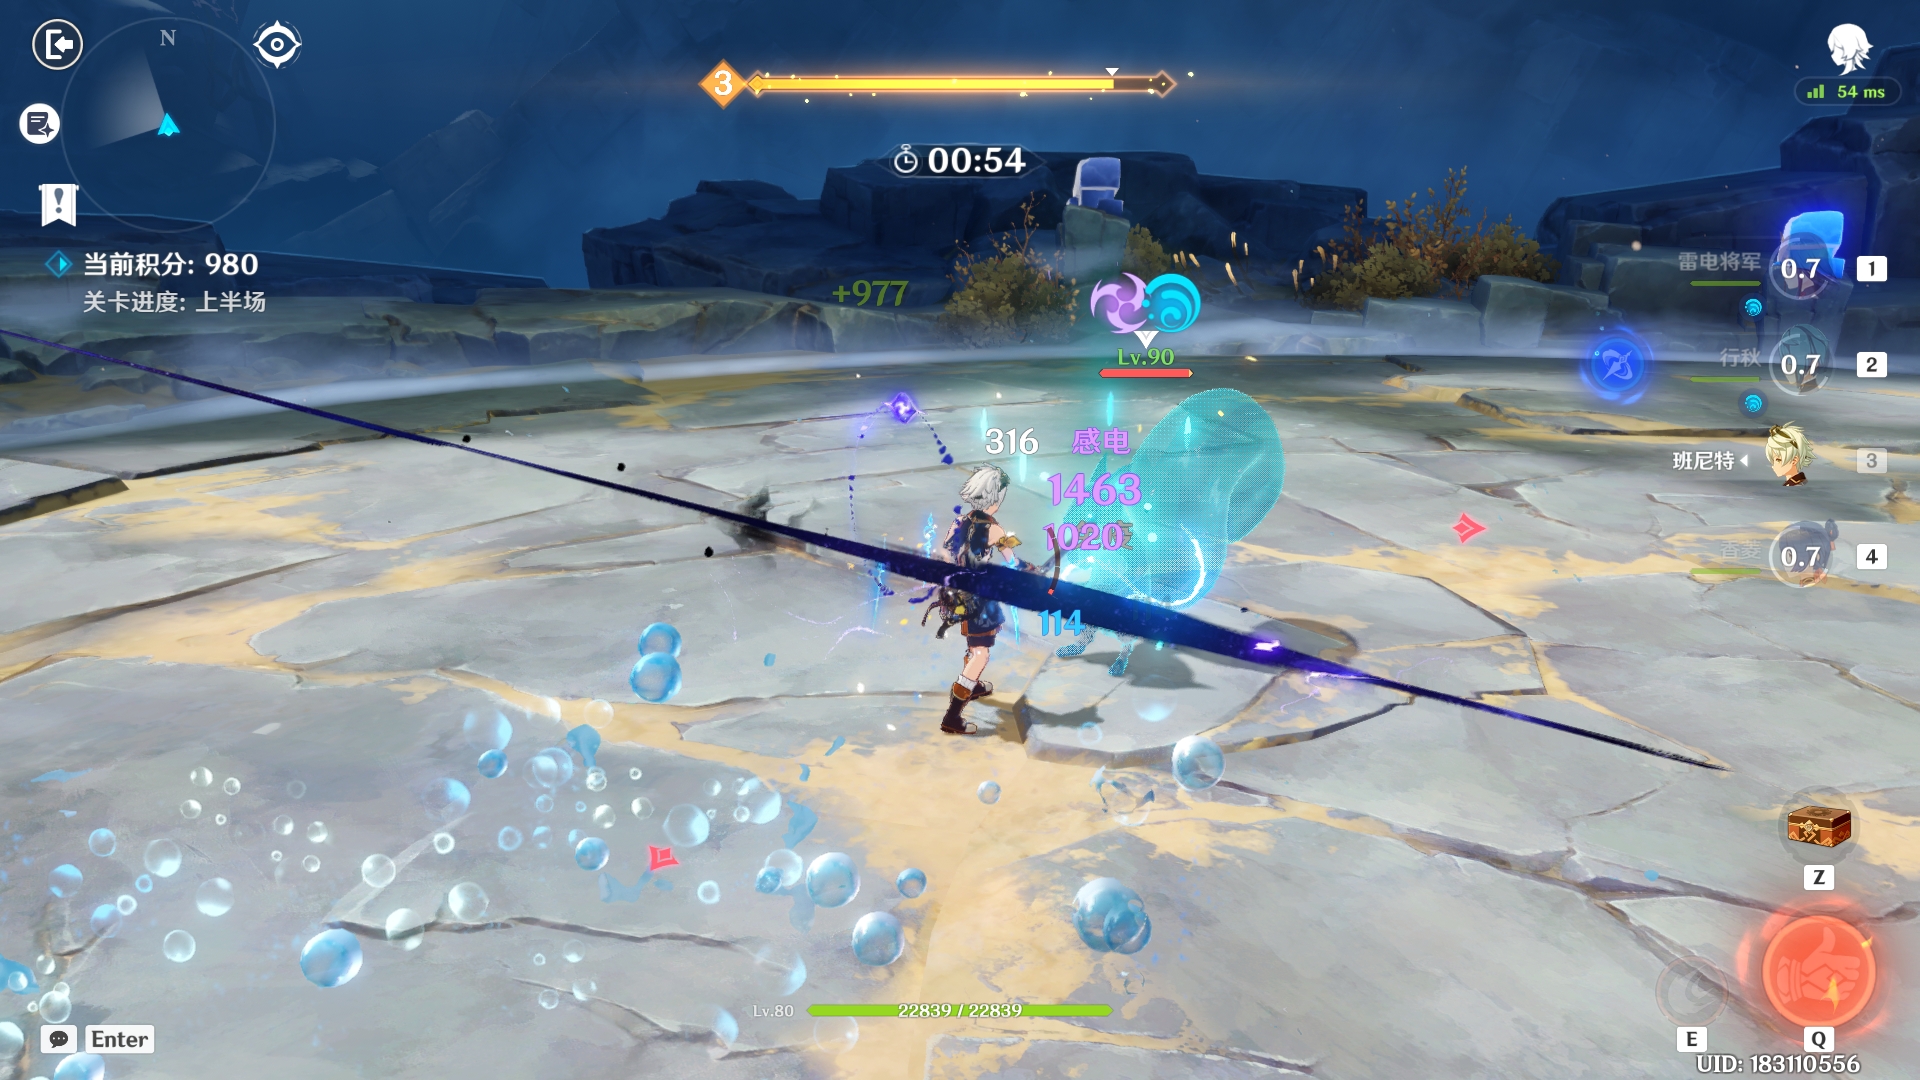character: (866, 438, 1095, 782)
